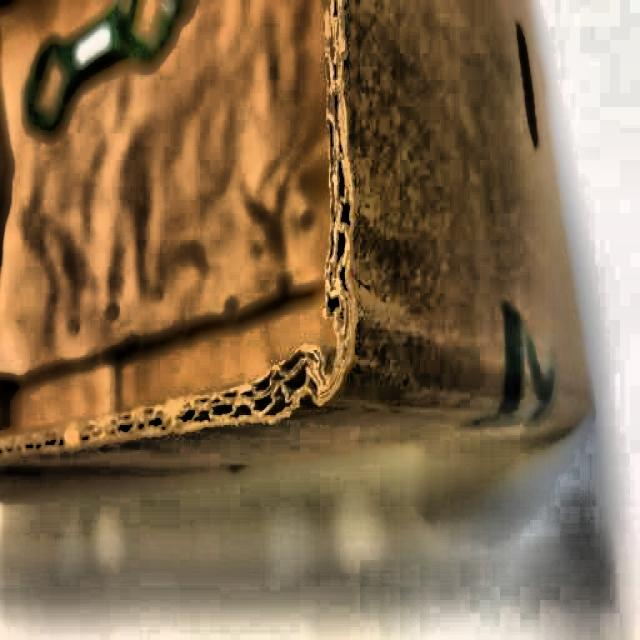cardboard: (21, 23, 583, 481)
